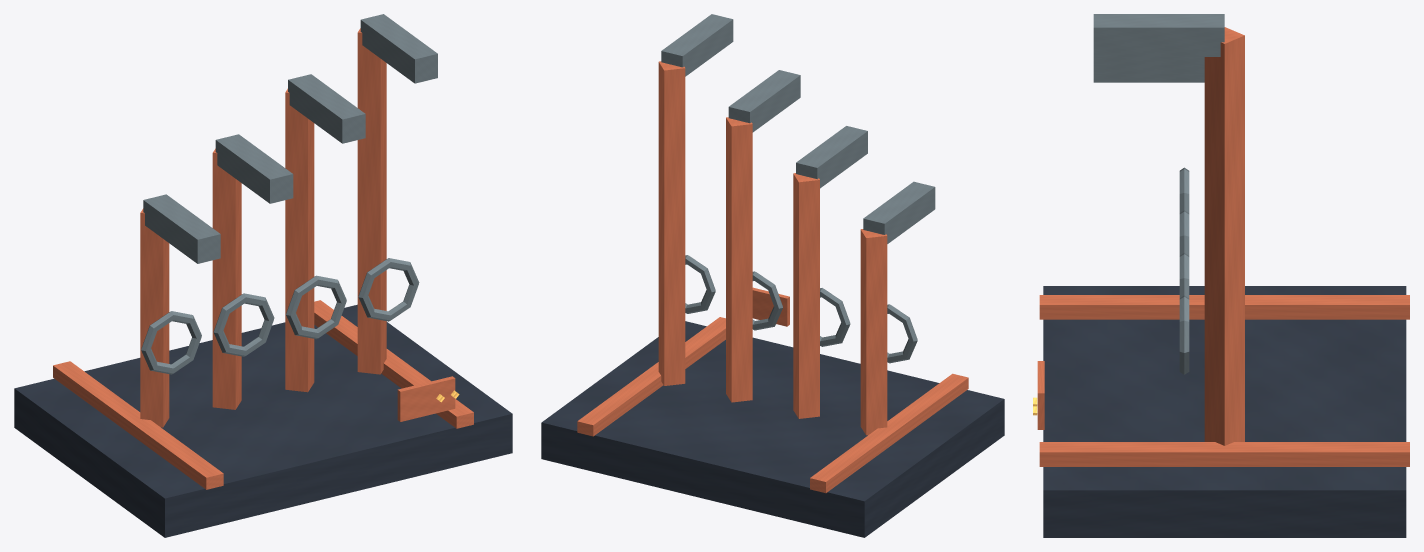
File: atlas100-s025-a03.lod1.glb
3 views of the same model, side by side, from view 1: azimuth 30°, elevation 25°; view 2: azimuth 150°, elevation 25°; view 3: azimuth 270°, elevation 25° (orthographic). The views are drawn at different scales.
Parts seen in each view (by area): view 1: atlas100-s025-a03:part-000, atlas100-s025-a03:part-012, atlas100-s025-a03:part-009, atlas100-s025-a03:part-006, atlas100-s025-a03:part-003, atlas100-s025-a03:part-001, atlas100-s025-a03:part-008, atlas100-s025-a03:part-011, atlas100-s025-a03:part-005, atlas100-s025-a03:part-014, atlas100-s025-a03:part-002, atlas100-s025-a03:part-015 (+4 smaller); view 2: atlas100-s025-a03:part-000, atlas100-s025-a03:part-012, atlas100-s025-a03:part-009, atlas100-s025-a03:part-006, atlas100-s025-a03:part-003, atlas100-s025-a03:part-001, atlas100-s025-a03:part-002, atlas100-s025-a03:part-005, atlas100-s025-a03:part-014, atlas100-s025-a03:part-011, atlas100-s025-a03:part-008, atlas100-s025-a03:part-015 (+4 smaller); view 3: atlas100-s025-a03:part-000, atlas100-s025-a03:part-012, atlas100-s025-a03:part-002, atlas100-s025-a03:part-001, atlas100-s025-a03:part-014, atlas100-s025-a03:part-005, atlas100-s025-a03:part-008, atlas100-s025-a03:part-011, atlas100-s025-a03:part-013, atlas100-s025-a03:part-015, atlas100-s025-a03:part-007, atlas100-s025-a03:part-004 (+1 smaller).
Boxes of the visible parts, box(x1,y1,x2,y2) form: atlas100-s025-a03:part-000: box(14, 304, 512, 537); atlas100-s025-a03:part-012: box(357, 28, 386, 374); atlas100-s025-a03:part-009: box(285, 88, 314, 392); atlas100-s025-a03:part-006: box(212, 148, 241, 409); atlas100-s025-a03:part-003: box(140, 208, 169, 427); atlas100-s025-a03:part-001: box(53, 361, 223, 489); atlas100-s025-a03:part-008: box(215, 134, 293, 203); atlas100-s025-a03:part-011: box(288, 74, 365, 143); atlas100-s025-a03:part-005: box(143, 194, 220, 263); atlas100-s025-a03:part-014: box(360, 14, 437, 83); atlas100-s025-a03:part-002: box(314, 300, 473, 428); atlas100-s025-a03:part-015: box(397, 376, 455, 421); atlas100-s025-a03:part-000: box(541, 321, 1004, 537); atlas100-s025-a03:part-012: box(658, 61, 685, 385); atlas100-s025-a03:part-009: box(726, 117, 752, 402); atlas100-s025-a03:part-006: box(793, 173, 819, 418); atlas100-s025-a03:part-003: box(860, 229, 887, 435); atlas100-s025-a03:part-001: box(810, 373, 968, 493); atlas100-s025-a03:part-002: box(577, 317, 725, 436); atlas100-s025-a03:part-005: box(863, 181, 935, 243); atlas100-s025-a03:part-014: box(661, 14, 733, 76); atlas100-s025-a03:part-011: box(728, 70, 800, 132); atlas100-s025-a03:part-008: box(796, 126, 867, 188); atlas100-s025-a03:part-015: box(752, 287, 789, 326); atlas100-s025-a03:part-000: box(1043, 286, 1406, 537); atlas100-s025-a03:part-012: box(1204, 27, 1244, 445); atlas100-s025-a03:part-002: box(1039, 442, 1409, 466); atlas100-s025-a03:part-001: box(1039, 295, 1409, 319); atlas100-s025-a03:part-014: box(1093, 14, 1224, 56); atlas100-s025-a03:part-005: box(1093, 74, 1204, 82); atlas100-s025-a03:part-008: box(1093, 65, 1204, 73); atlas100-s025-a03:part-011: box(1093, 57, 1204, 65); atlas100-s025-a03:part-013: box(1179, 295, 1189, 374); atlas100-s025-a03:part-015: box(1037, 361, 1044, 429); atlas100-s025-a03:part-007: box(1179, 210, 1189, 255); atlas100-s025-a03:part-004: box(1179, 167, 1189, 212).
Size of the model in its own units: 2.4 by 2.62 by 1.87.
Materials: 4 (4 with a texture image).
